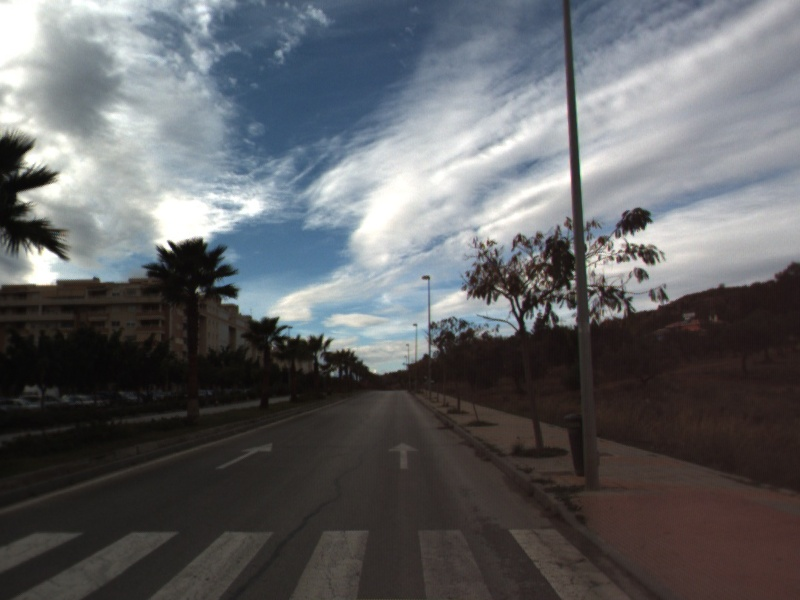STRAIGHT: (214, 440, 275, 471), (387, 439, 421, 471)
